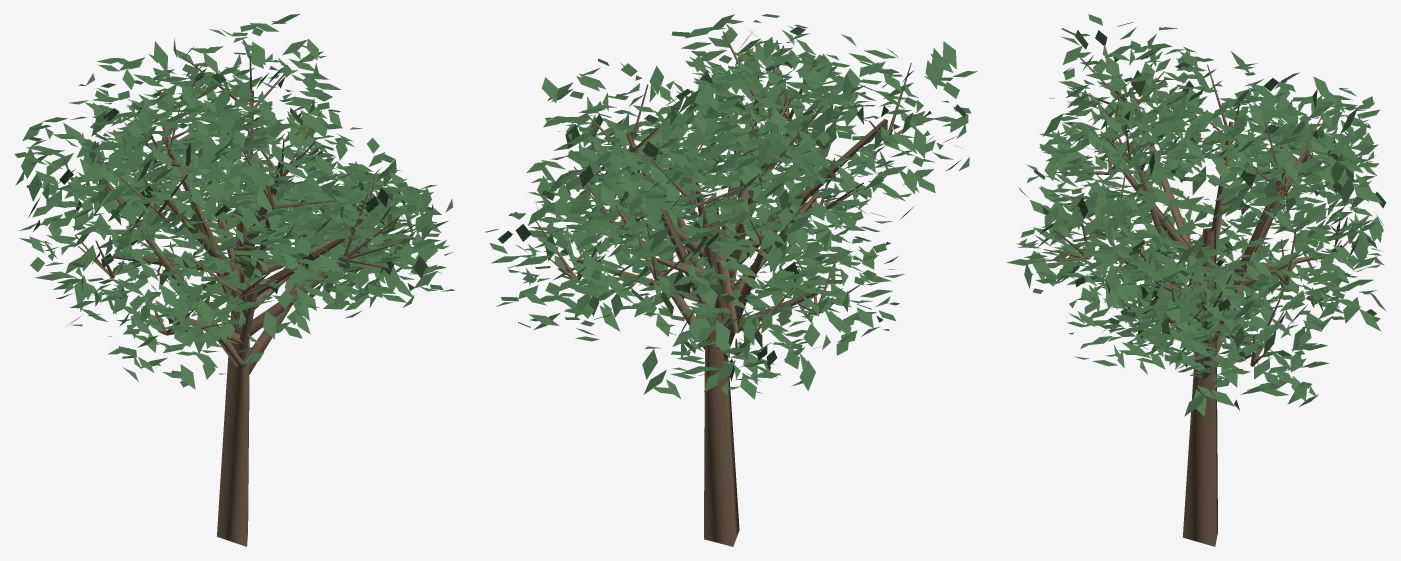
The model's file is Oak.fbx.
3 renders of one model, left to right at view 1: azimuth 30°, elevation 25°; view 2: azimuth 150°, elevation 25°; view 3: azimuth 270°, elevation 25°, orthographic. The views are drawn at different scales.
Parts seen in each view (by area): view 1: Body.050; view 2: Body.050; view 3: Body.050.
Part boxes in pixels (x1,y1,x2,y2): Body.050: (14, 14, 454, 546); Body.050: (485, 14, 977, 546); Body.050: (1007, 14, 1386, 546).
Size of the model in its own units: 7.52 by 8.86 by 6.81.
